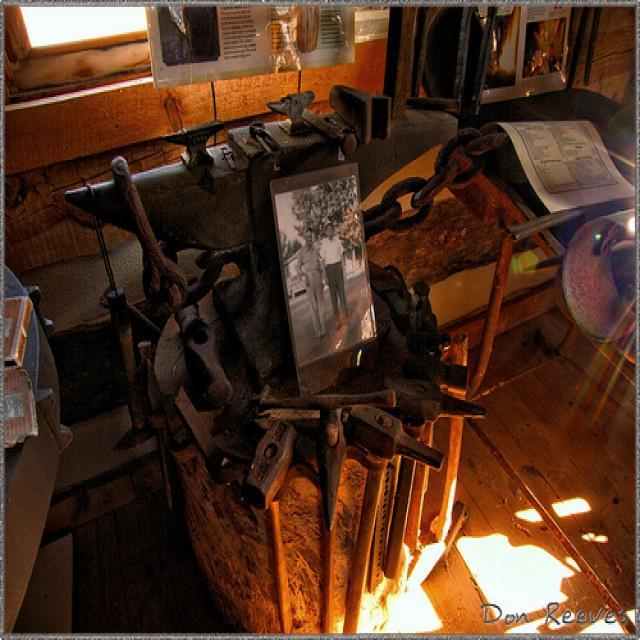hammer: (343, 395, 440, 640), (240, 412, 304, 615)
